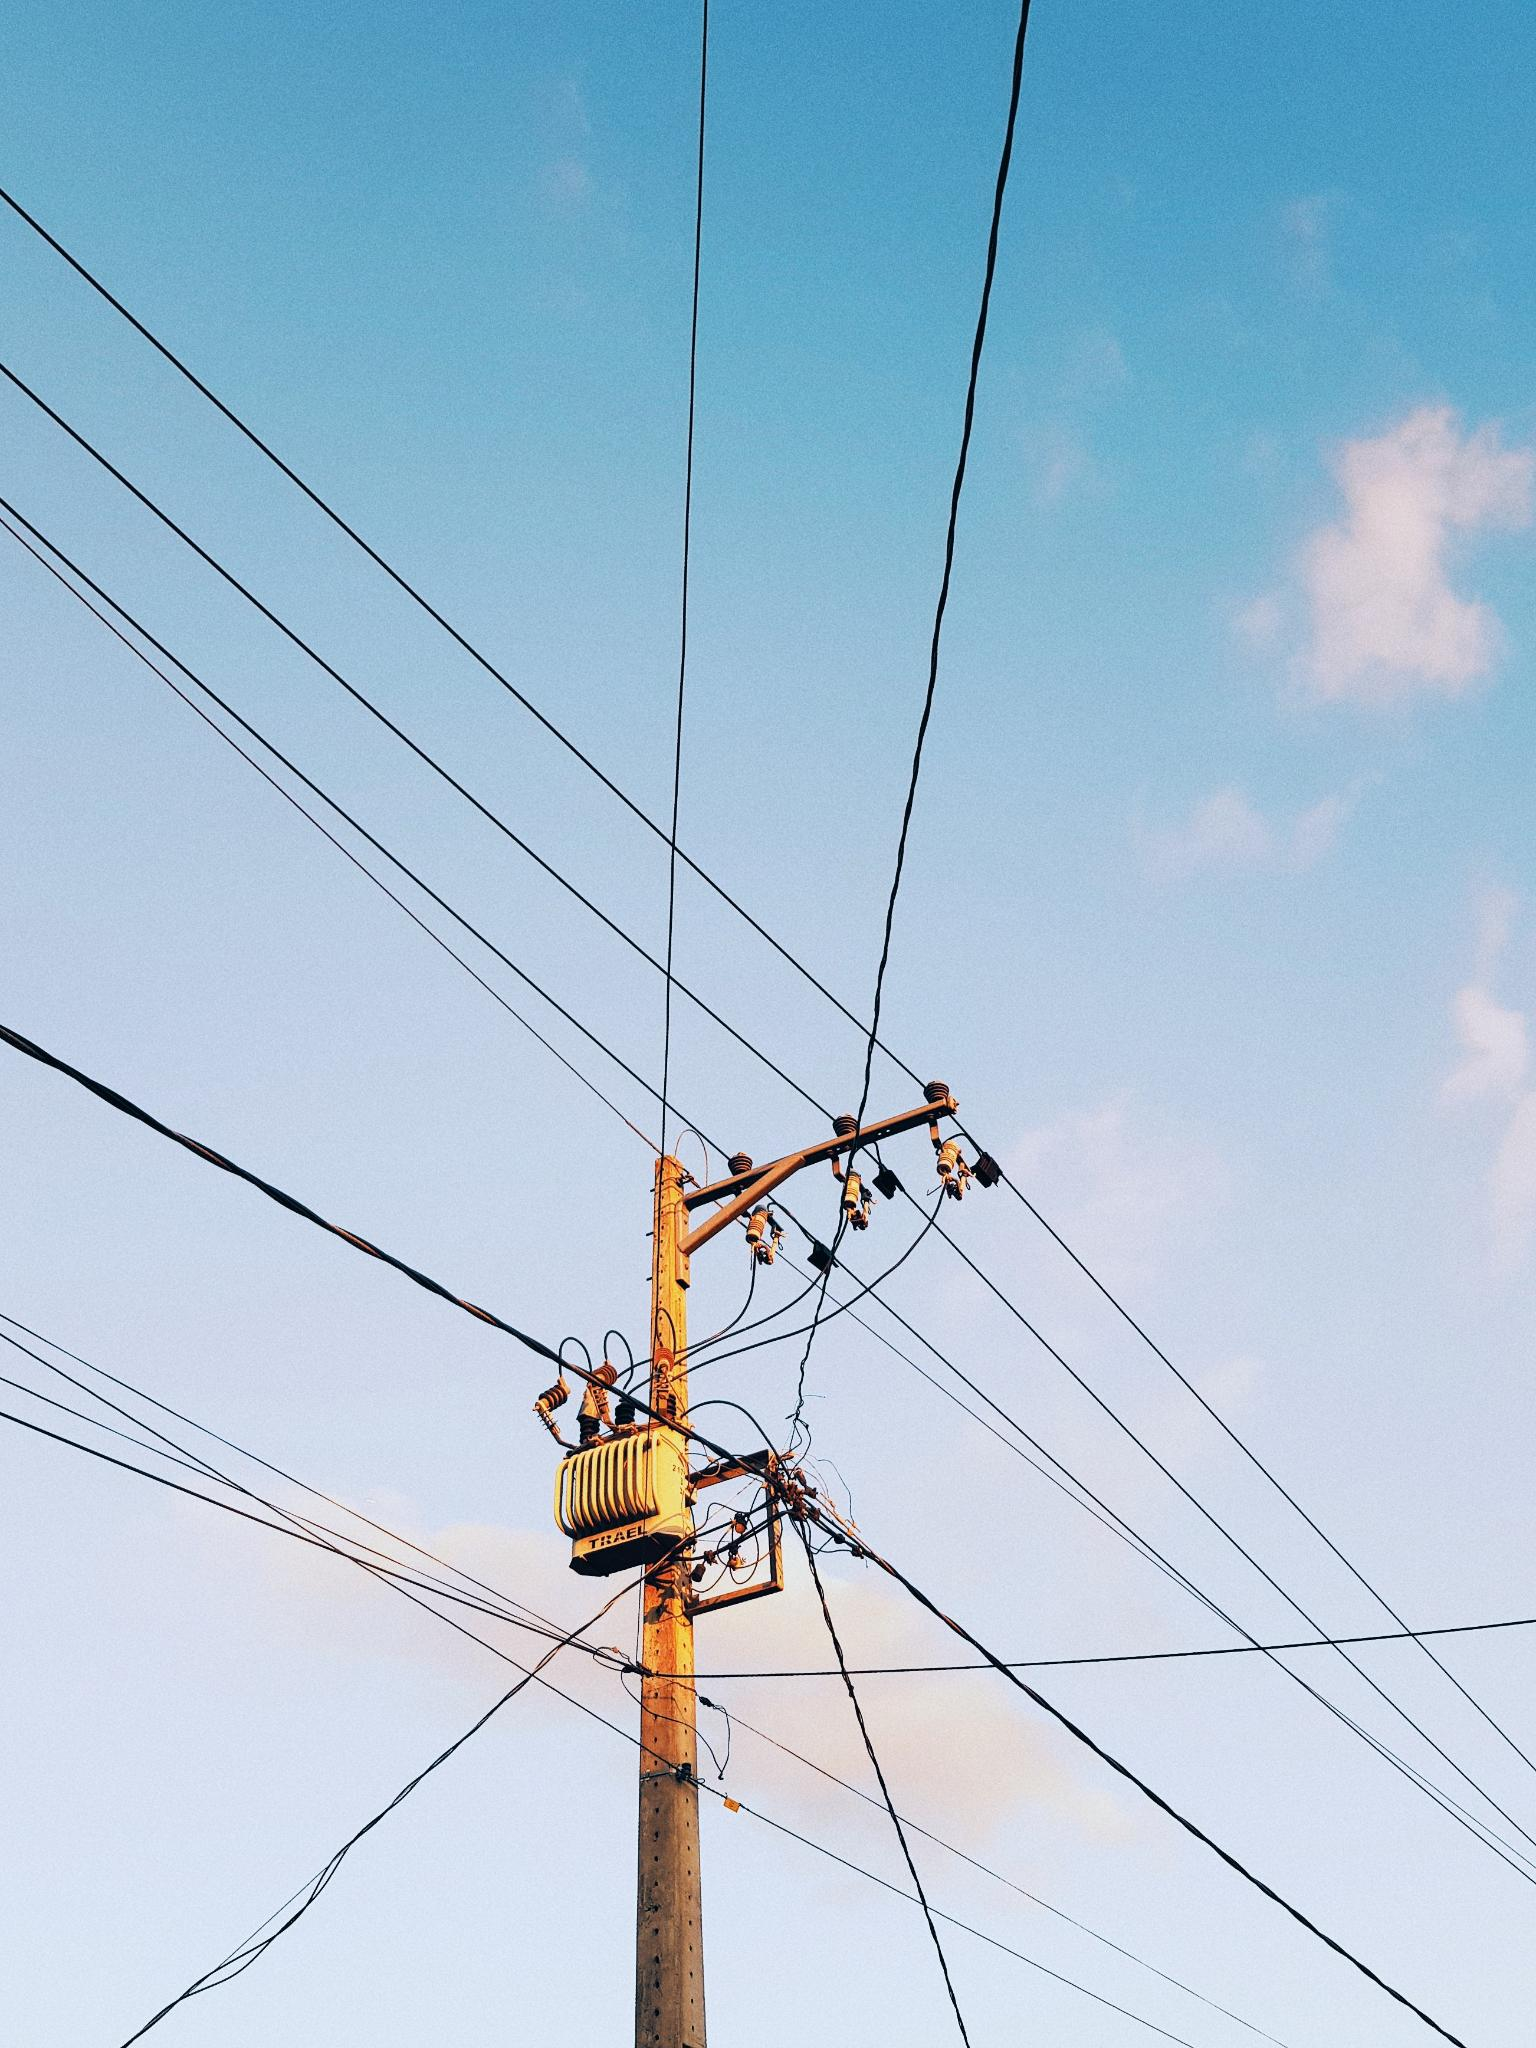cable tower: (452, 1030, 1050, 2048)
